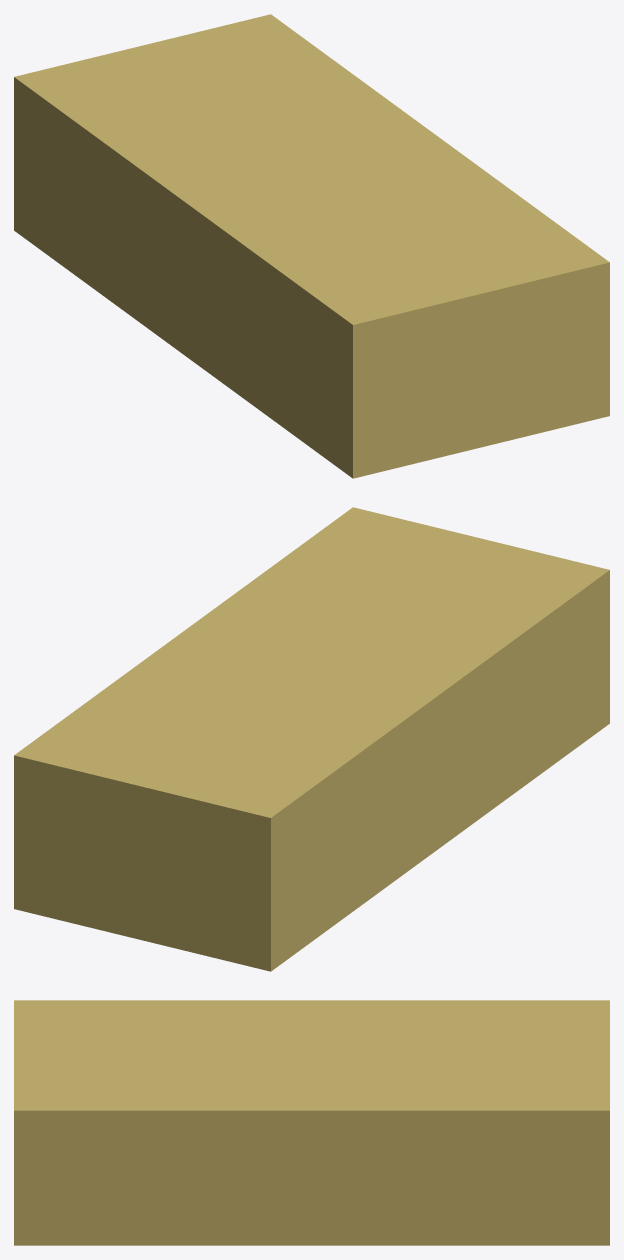
File: pasta.glb
3 renders of one model, top to bottom at view 1: azimuth 30°, elevation 25°; view 2: azimuth 150°, elevation 25°; view 3: azimuth 270°, elevation 25°, orthographic. The views are drawn at different scales.
Parts seen in each view (by area): view 1: 00_package; view 2: 00_package; view 3: 00_package.
Boxes of the visible parts, x1,y1,x2,y2 form: 00_package: [14, 14, 609, 478]; 00_package: [14, 507, 609, 971]; 00_package: [14, 1000, 609, 1245].
Bounding box in the file's own units: 0.14 × 0.093 × 0.32.
